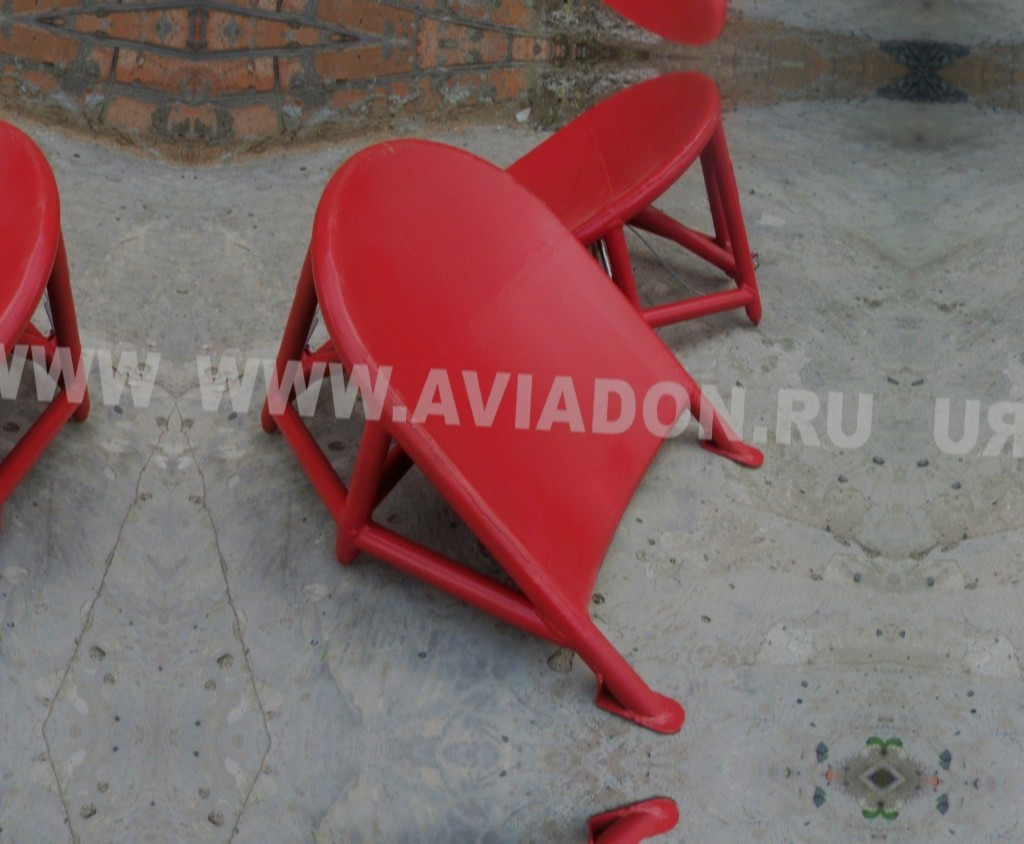chock: (242, 131, 782, 736), (497, 60, 782, 325)
